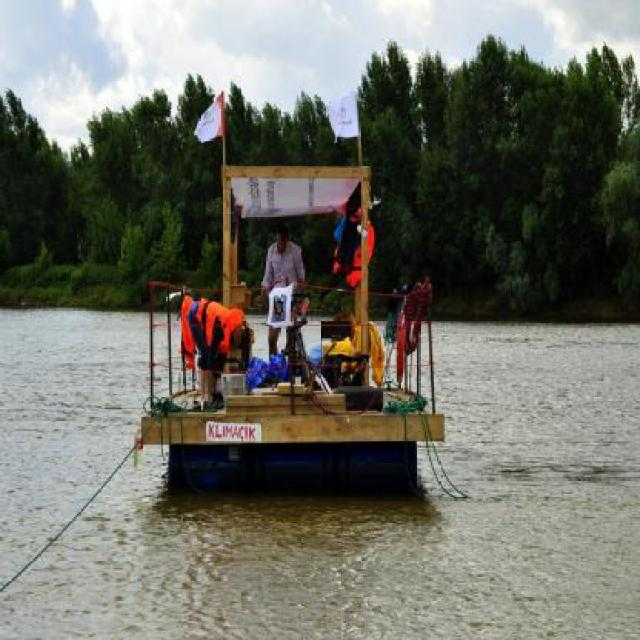Person: (188, 293, 254, 416), (252, 223, 310, 357)
